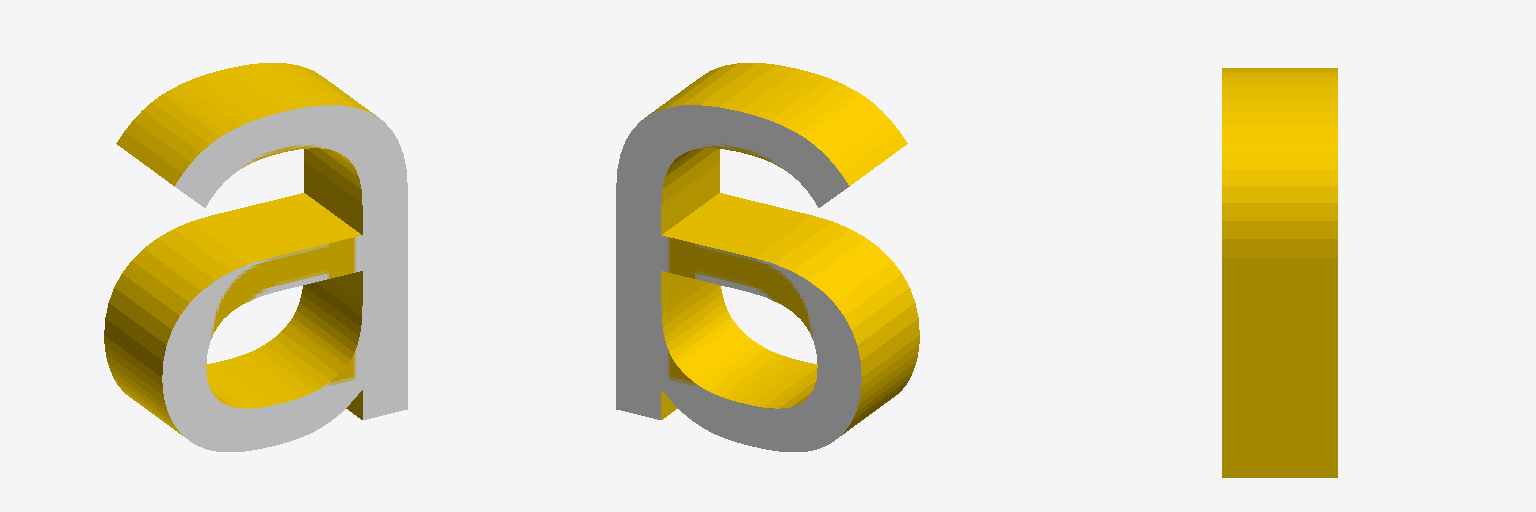
The picture shows the model from 3 angles: view 1: azimuth 30°, elevation 25°; view 2: azimuth 150°, elevation 25°; view 3: azimuth 270°, elevation 25°; orthographic projection.
Bounding box in the file's own units: 58.02 × 74.98 × 23.79.
5 materials, 1 textured.